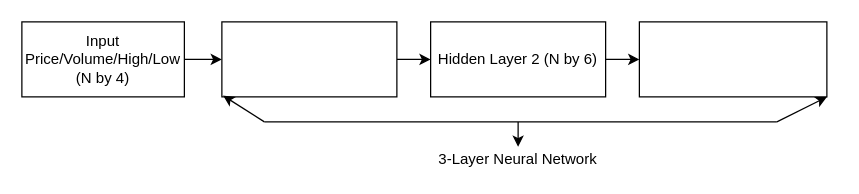
The diagram is 859 pixels wide and 194 high, and some of its shapes have lost their labels. Here are the shapes that lost their labels. From the top down, the centre of each, then its label:
the point at 309,59: Hidden Layer 1 (N by 16)
the point at 732,59: Output Prediction (N by 1)
